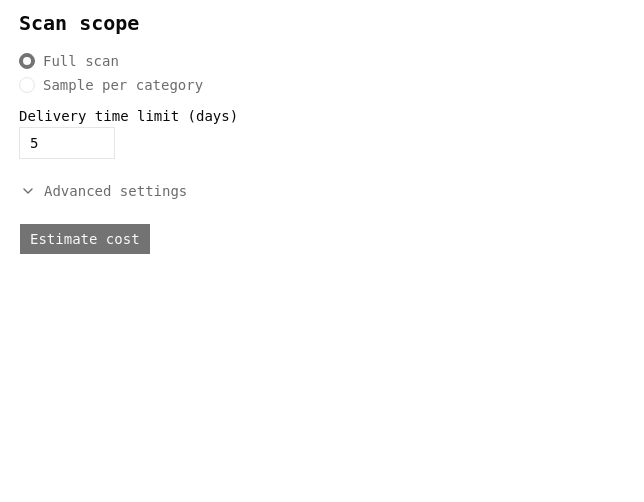
Test case: ScopeEstimateStep › clears a stale estimate when the scope config changes afterward
Click the button "Estimate cost": (85,239) [19, 223, 151, 255]
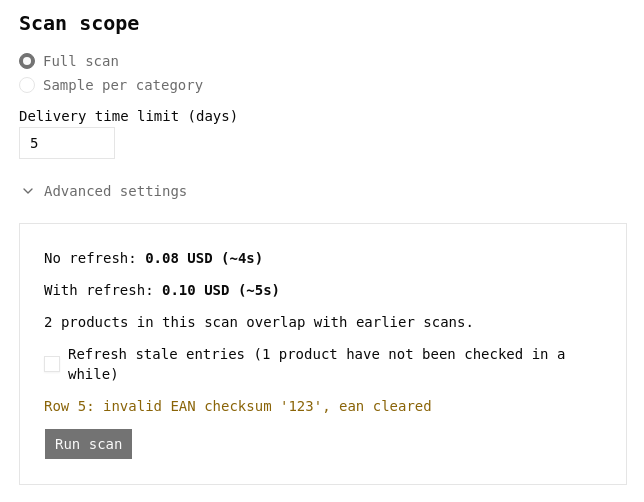
Now the text "No refresh: 0.08 USD (~4s)" is shown, box [44, 250, 263, 266]
Click the radio button named "Sample per category" next to "Sample per category": (27,85) [19, 77, 35, 93]
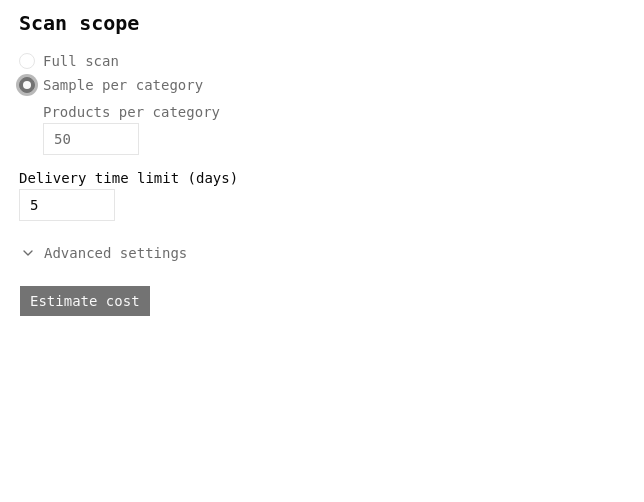
Now the text "No refresh" is gone
Now the text "0.08 USD" is gone
Now the button "Estimate cost" is shown, box [19, 285, 151, 317]
